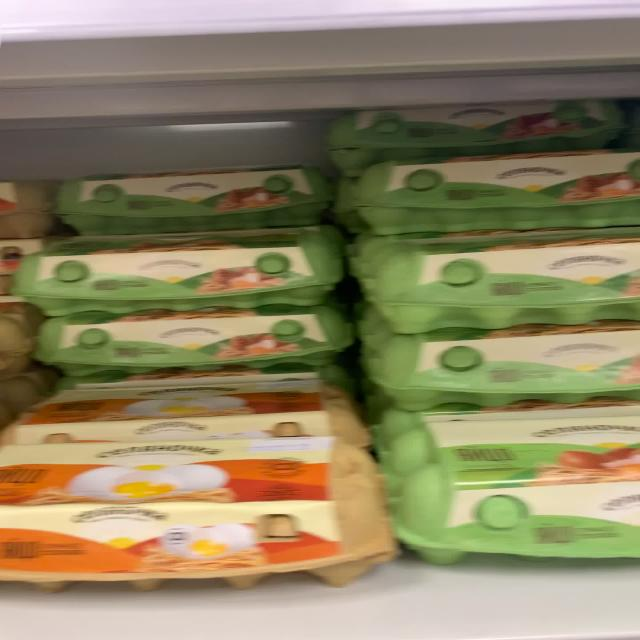egg box: (2, 444, 390, 577), (9, 377, 373, 444), (350, 234, 634, 312), (27, 238, 344, 300), (54, 160, 328, 228), (341, 166, 634, 228), (23, 314, 349, 368), (378, 329, 630, 392), (314, 110, 624, 158)
